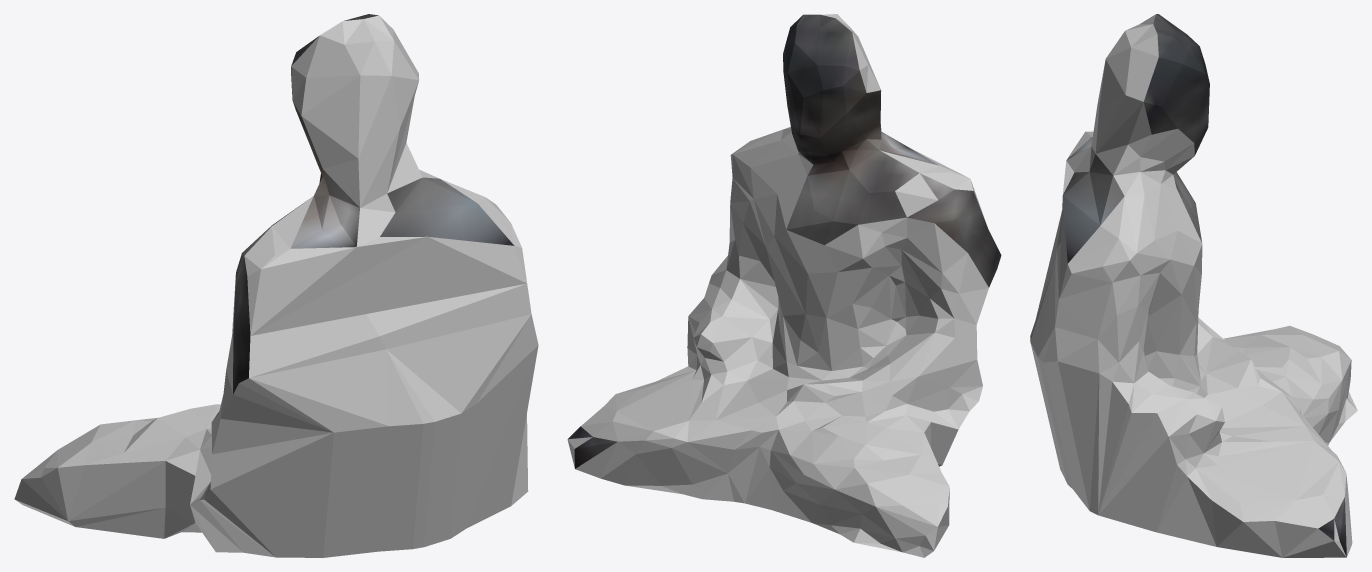
The model's file is Patung 2.fbx.
3 renders of one model, left to right at view 1: azimuth 30°, elevation 25°; view 2: azimuth 150°, elevation 25°; view 3: azimuth 270°, elevation 25°, orthographic. The views are drawn at different scales.
Visible parts, largest first — view 1: Patung 1; view 2: Patung 1; view 3: Patung 1.
Boxes of the visible parts, bbox=[...] form: Patung 1: bbox=[14, 14, 538, 557]; Patung 1: bbox=[567, 14, 1001, 557]; Patung 1: bbox=[1030, 14, 1357, 557].
Bounding box in the file's own units: 92.18 × 104 × 66.07.
